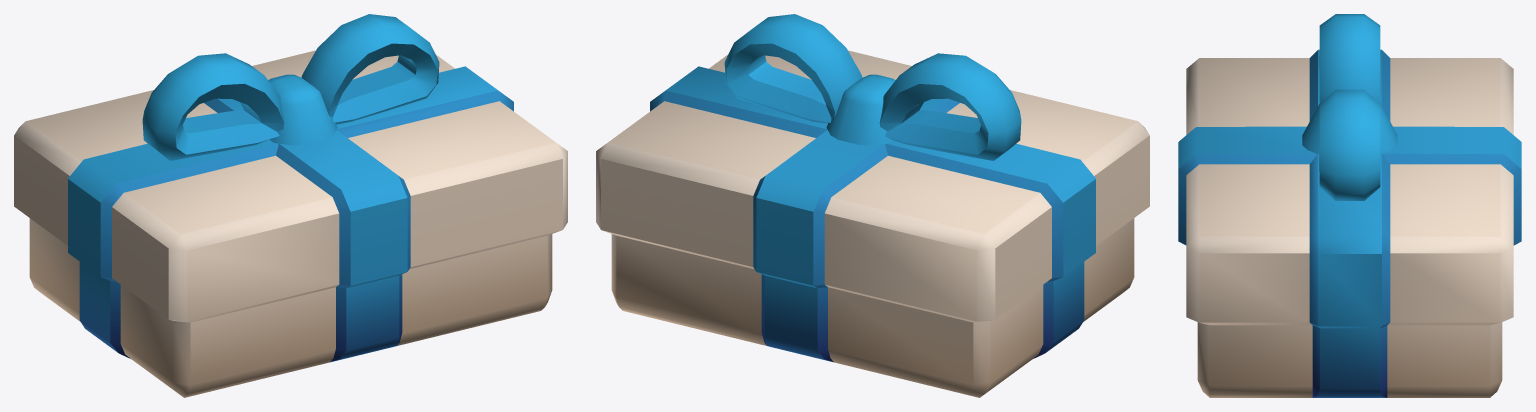
The model's file is present_C_white.obj.
3 views of the same model, side by side, from view 1: azimuth 30°, elevation 25°; view 2: azimuth 150°, elevation 25°; view 3: azimuth 270°, elevation 25° (orthographic). The views are drawn at different scales.
Parts seen in each view (by area): view 1: present_C_white; view 2: present_C_white; view 3: present_C_white.
Part boxes in pixels (x1,y1,x2,y2): present_C_white: (14, 14, 567, 397); present_C_white: (596, 14, 1149, 397); present_C_white: (1178, 14, 1521, 397).
Bounding box in the file's own units: 0.7638 × 0.4617 × 0.5638.
1 material, 1 textured.
